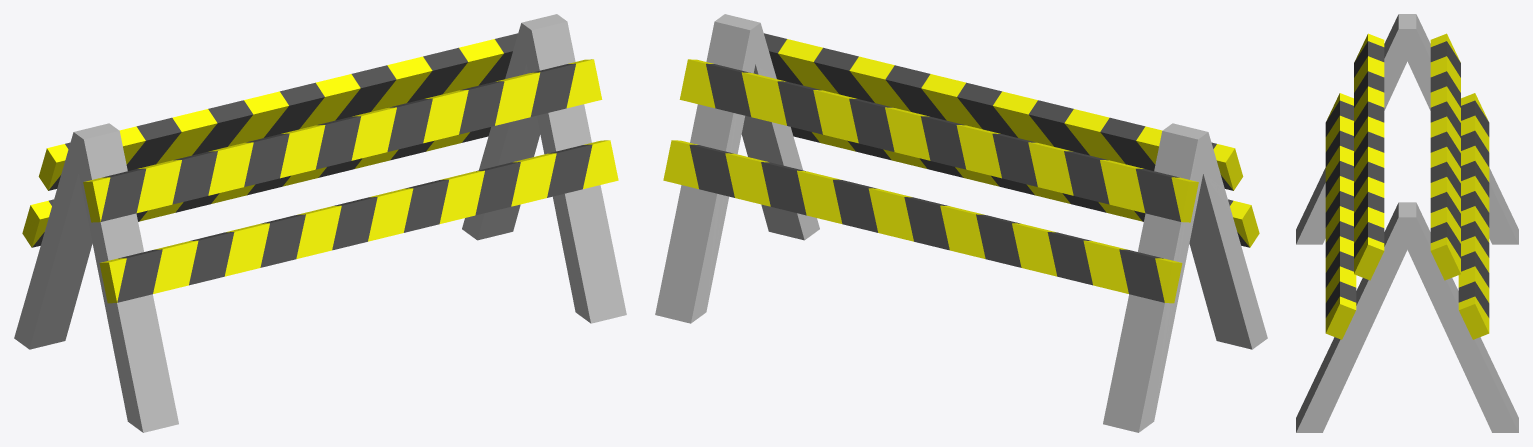
The model's file is Road Barrier Caution.fbx.
3 views of the same model, side by side, from view 1: azimuth 30°, elevation 25°; view 2: azimuth 150°, elevation 25°; view 3: azimuth 270°, elevation 25° (orthographic). The views are drawn at different scales.
Visible parts, largest first — view 1: _(Loose Entity); view 2: _(Loose Entity); view 3: _(Loose Entity).
Part boxes in pixels (x1,y1,x2,y2): _(Loose Entity): (14,14,626,432); _(Loose Entity): (655,14,1267,432); _(Loose Entity): (1296,14,1518,432).
Bounding box in the file's own units: 168 × 80 × 75.
